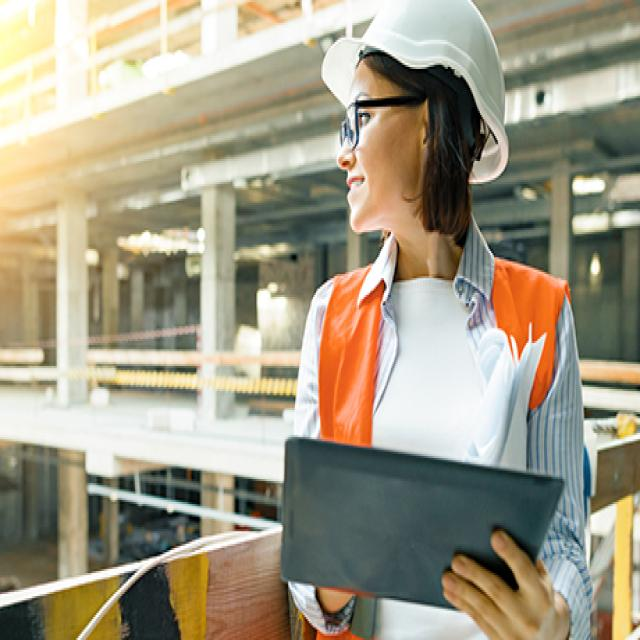goggles: (340, 97, 422, 156)
helmet: (314, 2, 530, 112)
vest: (324, 244, 563, 595)
